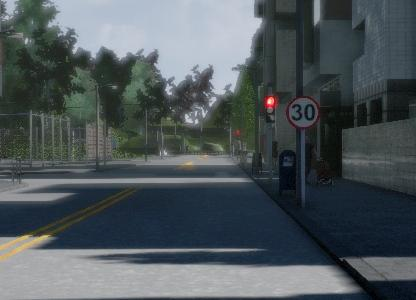Speed_30: (285, 94, 322, 132)
